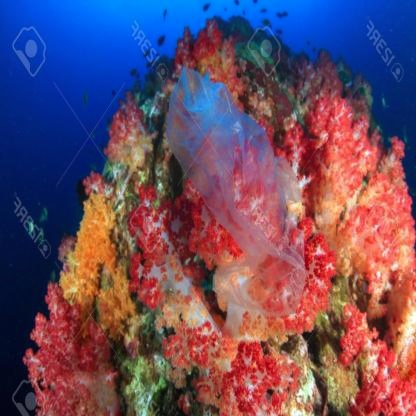pbag: (156, 62, 310, 315)
